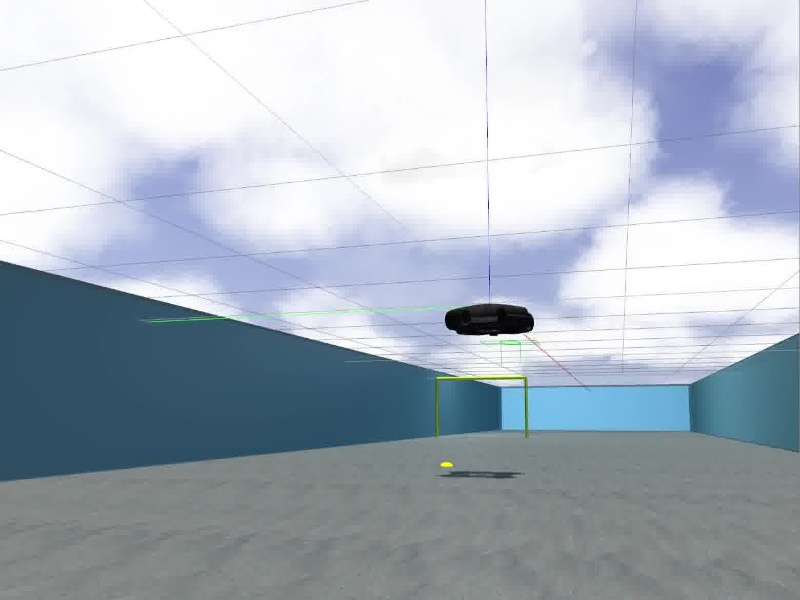gate: (434, 375, 530, 436)
